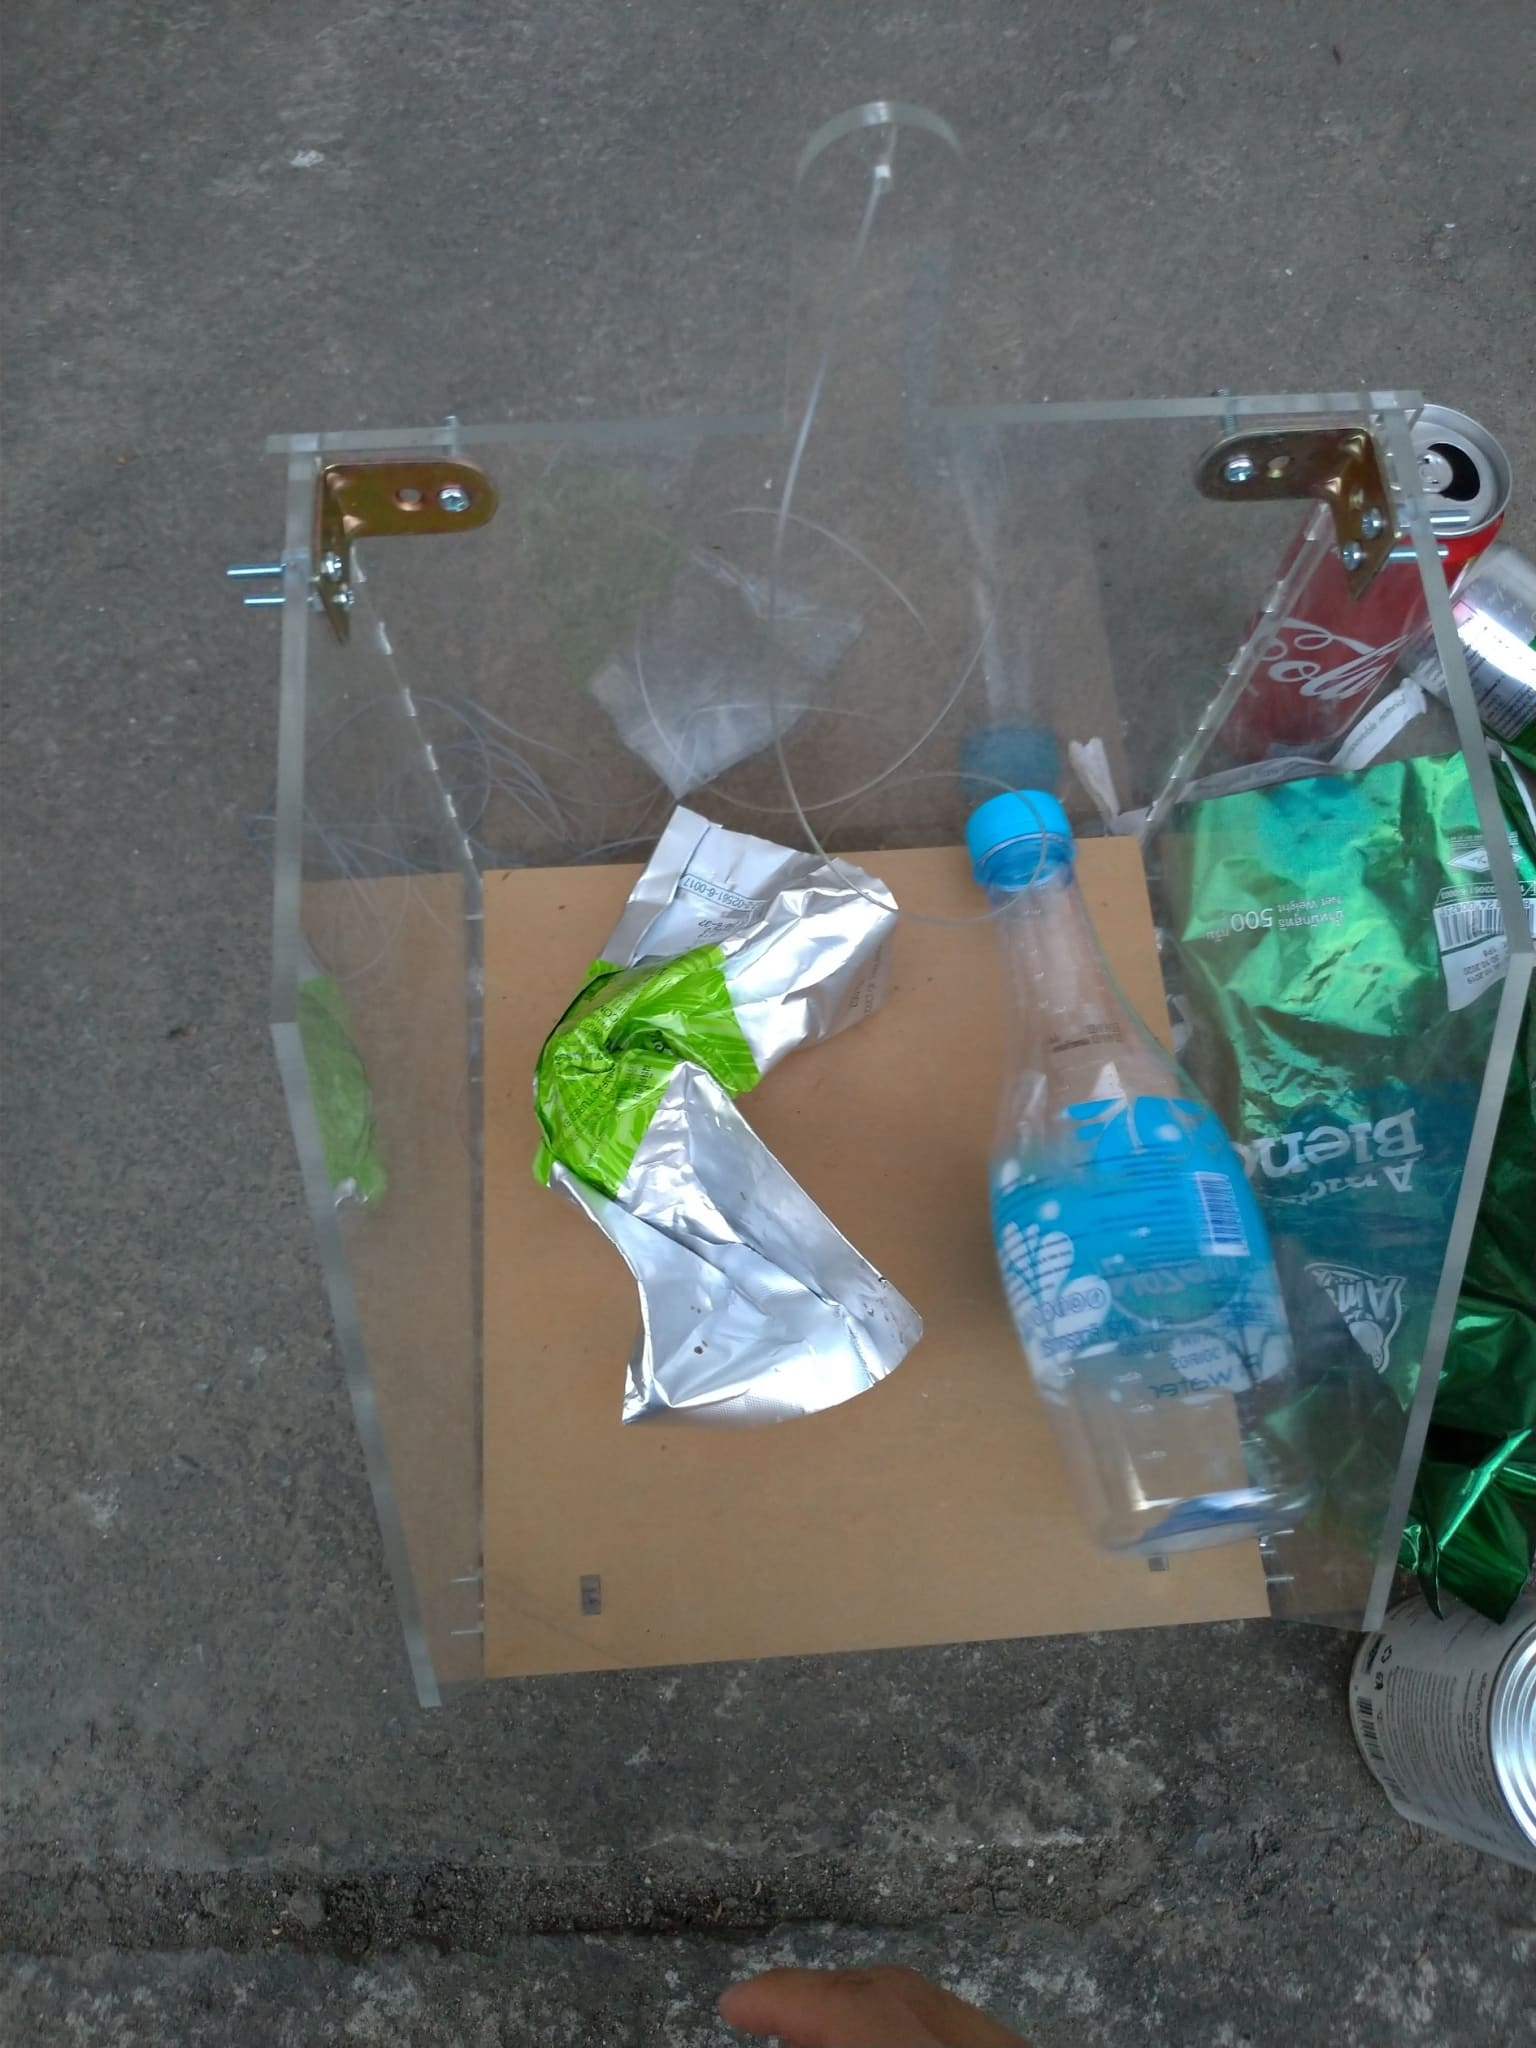AlCan: (1218, 406, 1509, 768), (1418, 548, 1536, 748)
Others: (1157, 751, 1536, 1603), (531, 803, 921, 1426)
PlasticBottle: (963, 787, 1312, 1564)
